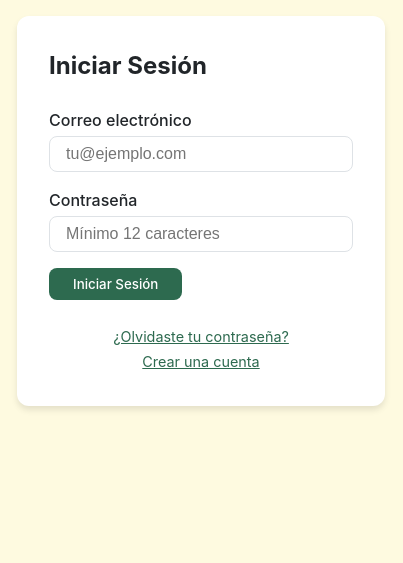
Scenario: AuthPage - Rutas y query params › al hacer clic en "Crear una cuenta" cambia a vista registro
Click the button "Crear una cuenta" at coordinates (201, 362), box x1=138 y1=349 x2=264 y2=374
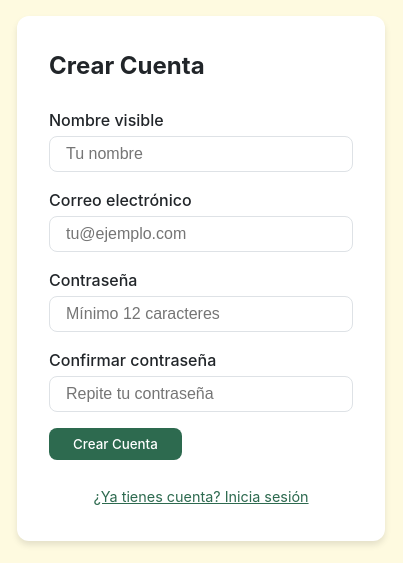
Result: the form named "formulario de registro" is shown
